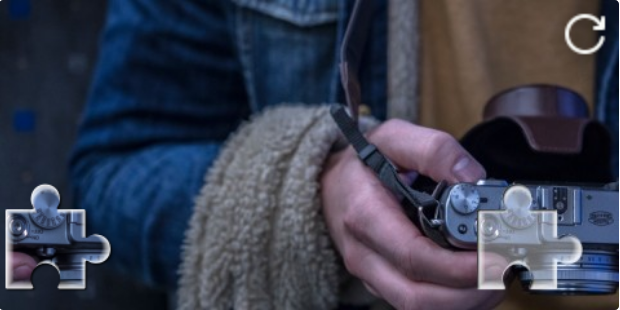target: (478, 185, 583, 290)
